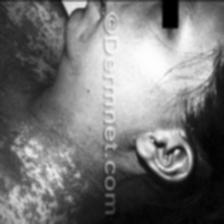Non-Cancerous Skin Condition: (20, 132, 90, 218), (0, 154, 13, 224)
